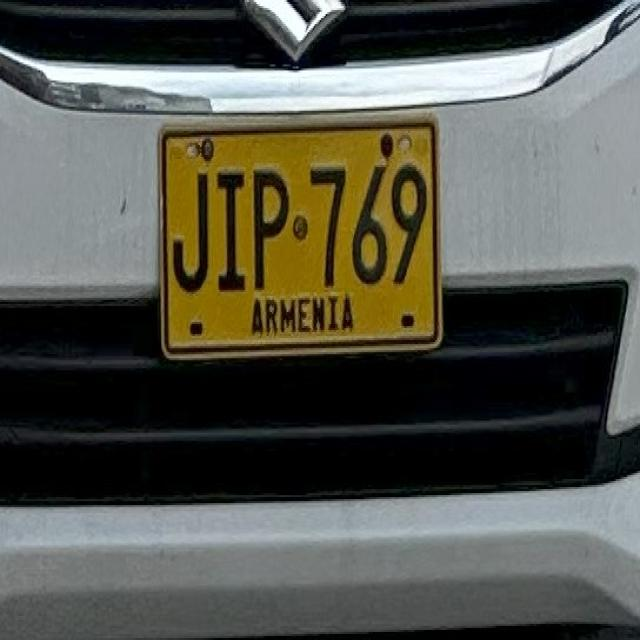number plate: (161, 121, 439, 354)
